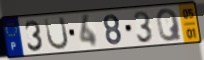3: (133, 10, 154, 44), (24, 19, 44, 53)
4: (78, 13, 100, 51)
8: (102, 13, 124, 45)
Q: (155, 7, 184, 43)
U: (43, 16, 70, 52)
